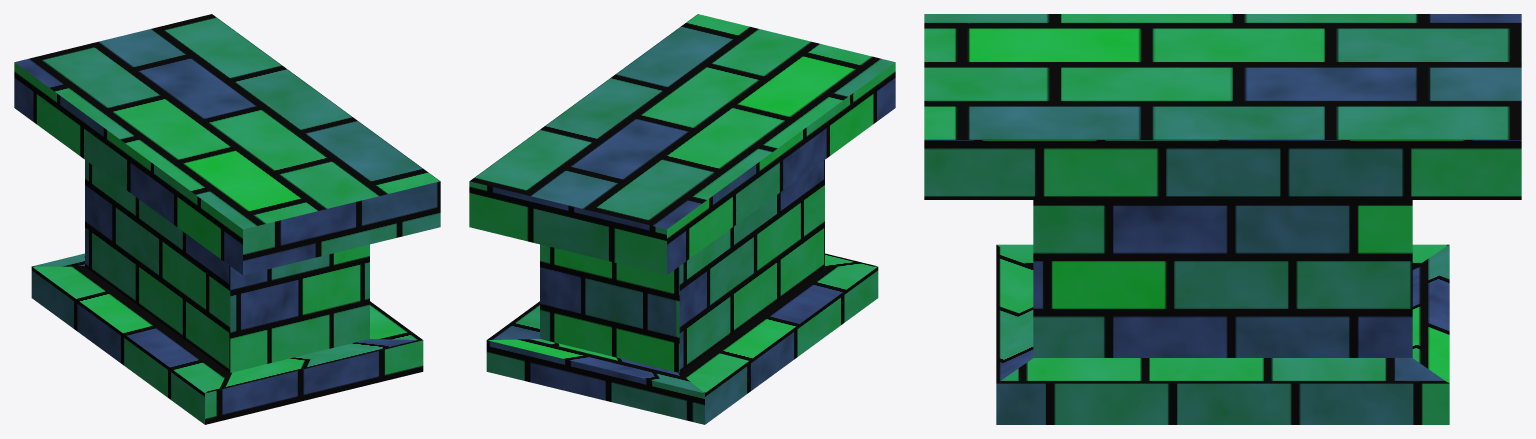
Rendered from poisoned room alter.fbx.
The picture shows the model from 3 angles, left to right: view 1: azimuth 30°, elevation 25°; view 2: azimuth 150°, elevation 25°; view 3: azimuth 270°, elevation 25°; orthographic projection. The views are drawn at different scales.
Parts seen in each view (by area): view 1: themed alter - poisoned stone; view 2: themed alter - poisoned stone; view 3: themed alter - poisoned stone.
Boxes of the visible parts, box(x1,y1,x2,y2) form: themed alter - poisoned stone: box(14, 14, 440, 424); themed alter - poisoned stone: box(469, 14, 895, 424); themed alter - poisoned stone: box(924, 14, 1521, 424).
Size of the model in its own units: 174 by 162 by 315.
